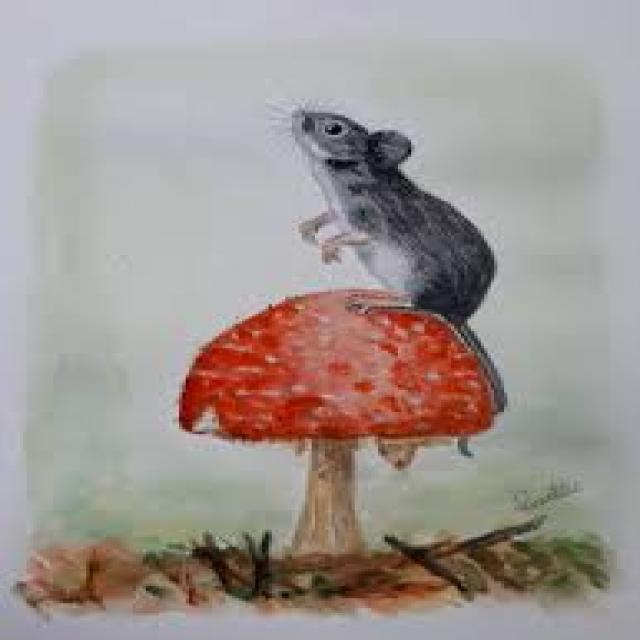rat: (276, 98, 508, 468)
